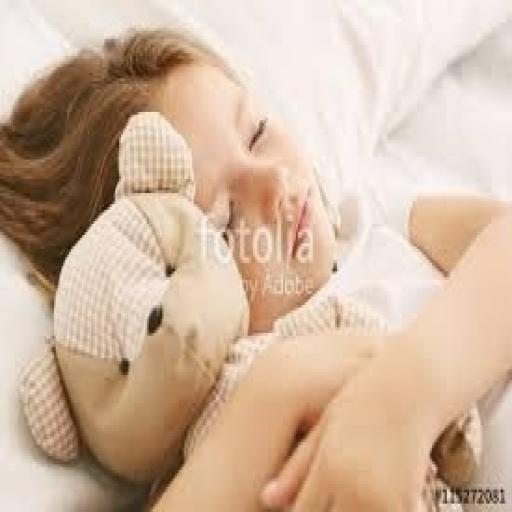sleeping: (0, 20, 510, 509)
